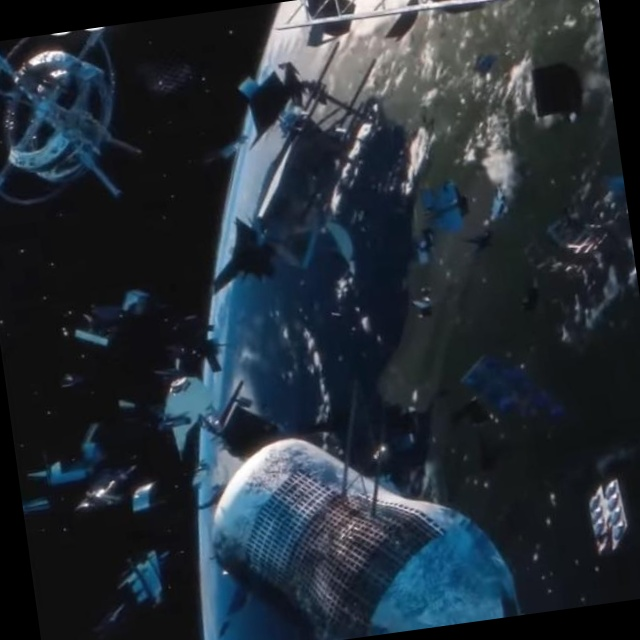large_debris: (175, 374, 531, 640), (170, 33, 447, 307), (0, 23, 163, 238), (12, 406, 171, 539), (16, 262, 168, 371), (258, 0, 526, 40), (510, 50, 600, 138), (98, 532, 183, 625), (567, 464, 640, 563)
